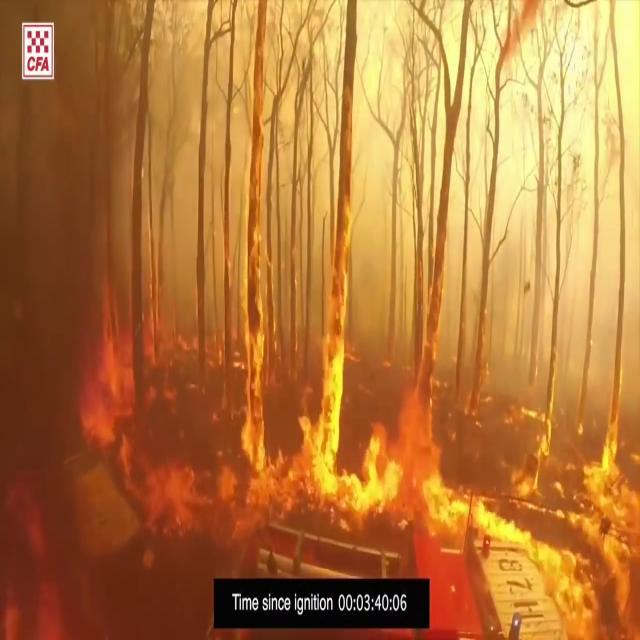Fire: (217, 270, 640, 608)
Smoke: (0, 10, 212, 616)
